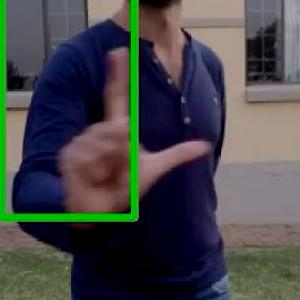land_hand: (56, 42, 215, 227)
